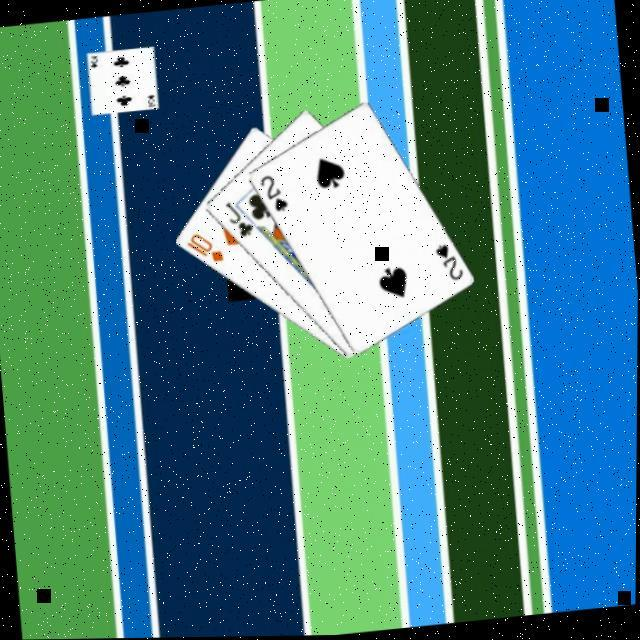10D: (181, 227, 226, 268)
2S: (429, 240, 465, 285), (255, 170, 290, 215)
JC: (220, 196, 255, 241)
